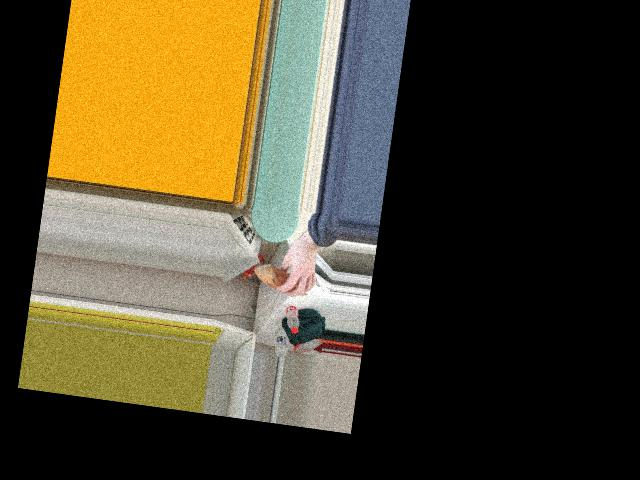sweet_potato: (253, 264, 313, 298)
